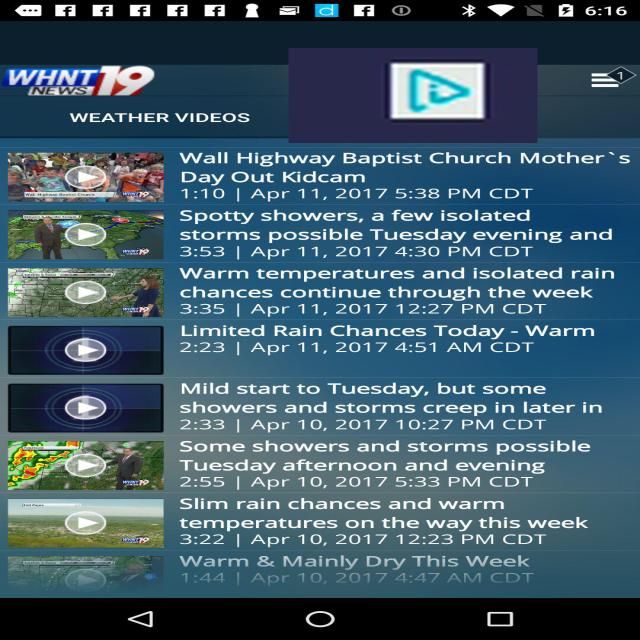sneaking: (288, 48, 538, 143)
